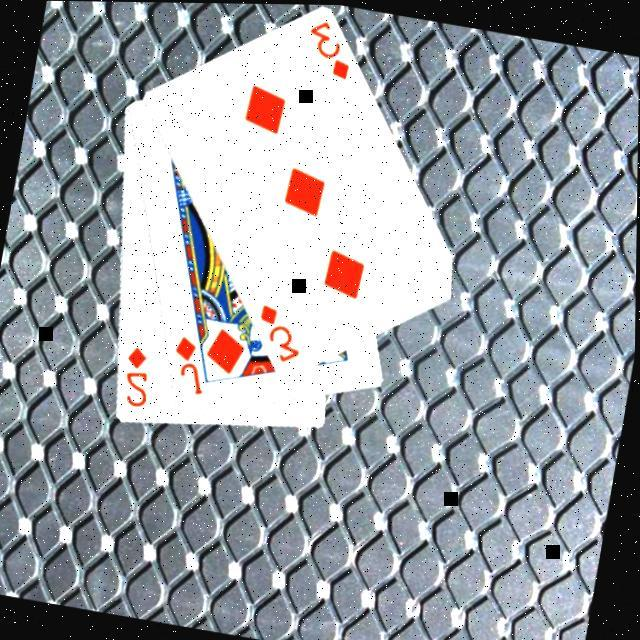2D: (115, 340, 158, 410)
3D: (298, 12, 360, 82), (248, 298, 310, 367)
JD: (165, 330, 215, 398)
